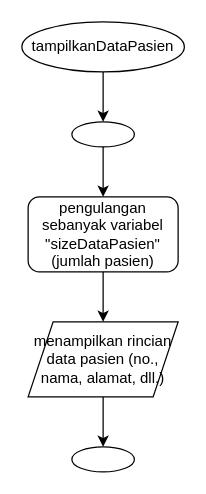
The diagram is 206 pixels wide and 494 high, and some of its shapes have lost their labels. The shapes that lost their labels are listed below. From the top down, each one's box as (x1, y1, x2, y2) in pixels, then its label:
(71, 121, 134, 147): mulai
(71, 446, 134, 472): selesai
